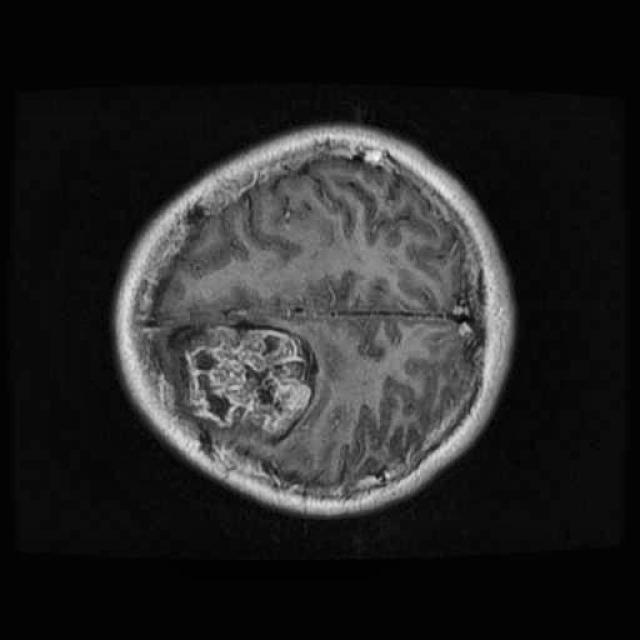Tumor: (151, 303, 327, 463)
